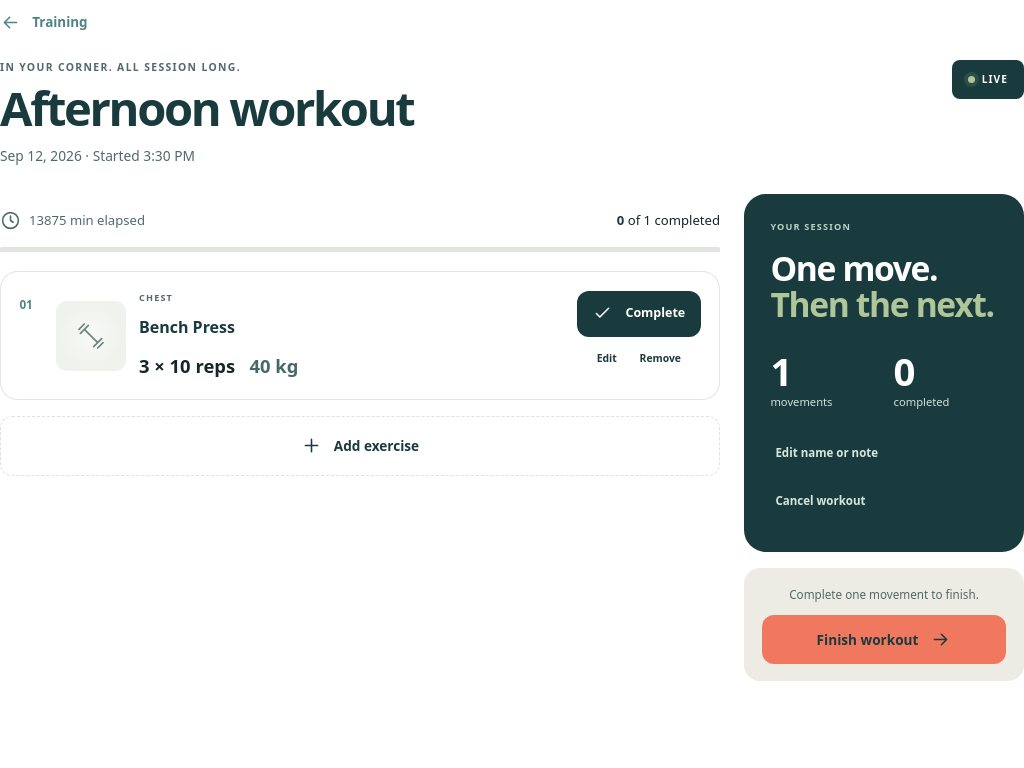
Test: Training lifecycle › preserves typed tracking on a server error and sends only the changed field
The image size is (1024, 768).
Click the button with aria-label "Edit Bench Press": (607, 359) [592, 337, 622, 381]
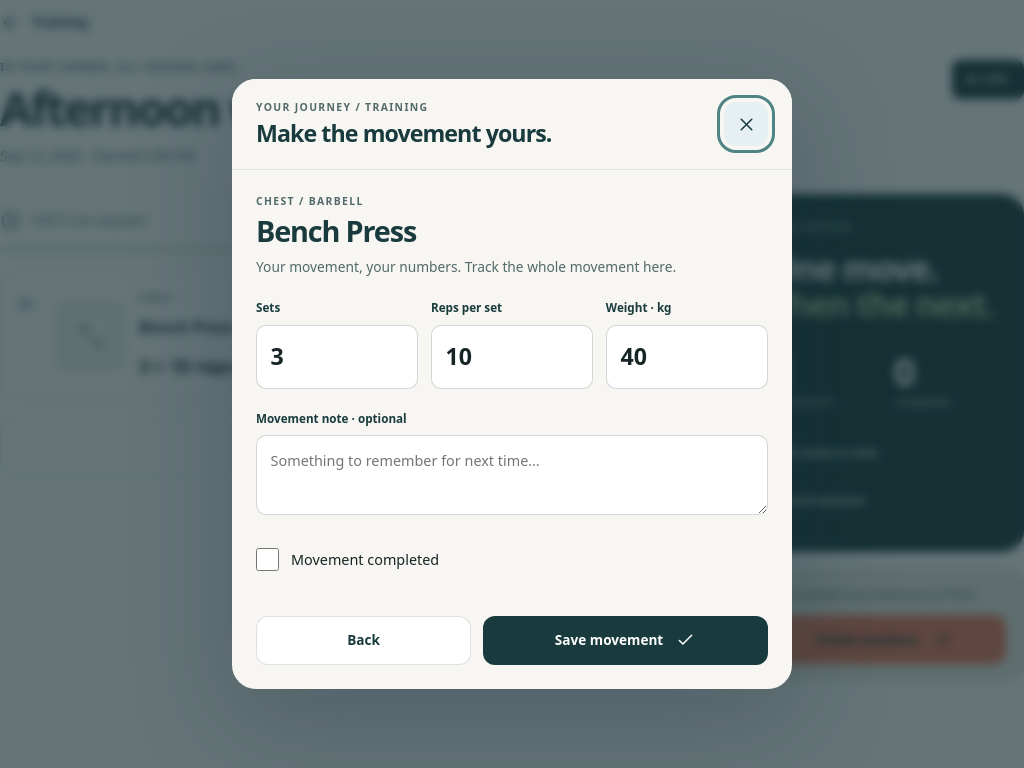
Replace the text in the number field labelled "Weight · kg" with "45": (687, 357) [606, 325, 768, 389]
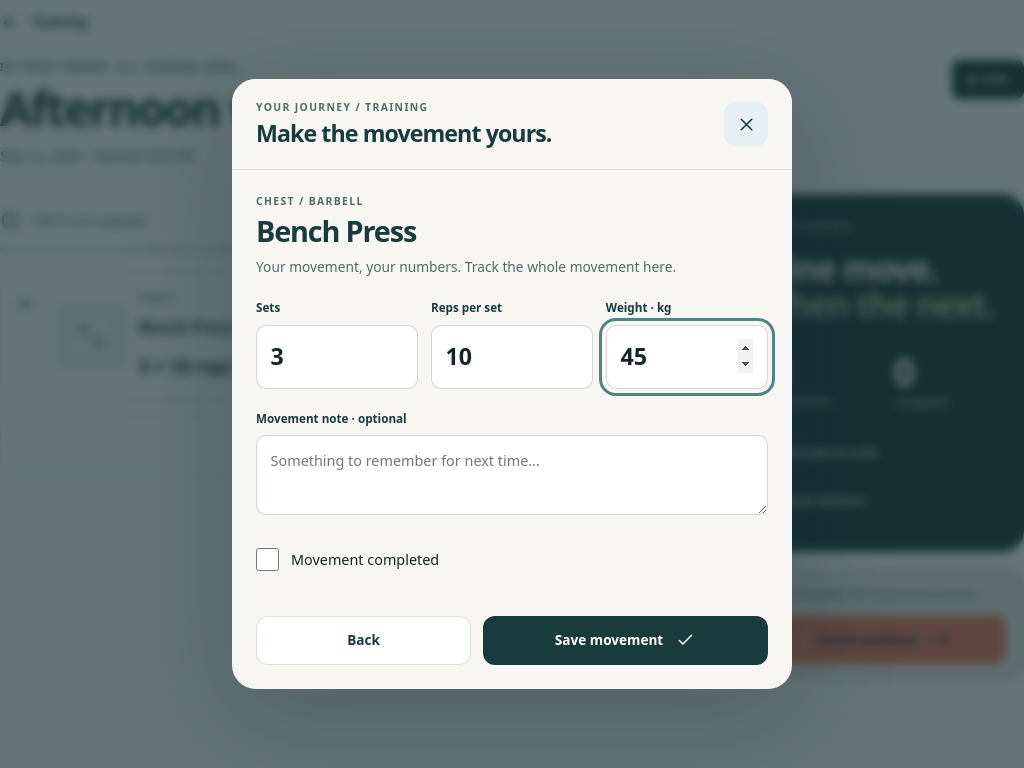
Click the button "Save movement": (626, 640) [483, 616, 768, 664]
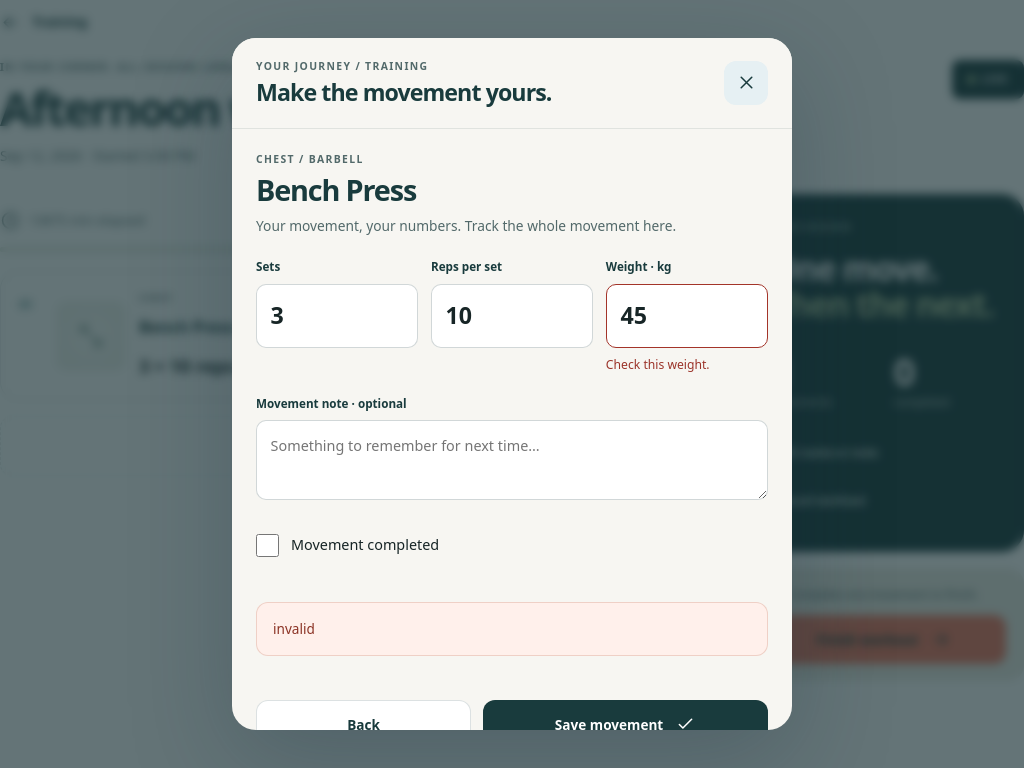
Result: the text "Check this weight." is shown at [606, 356, 710, 373]
